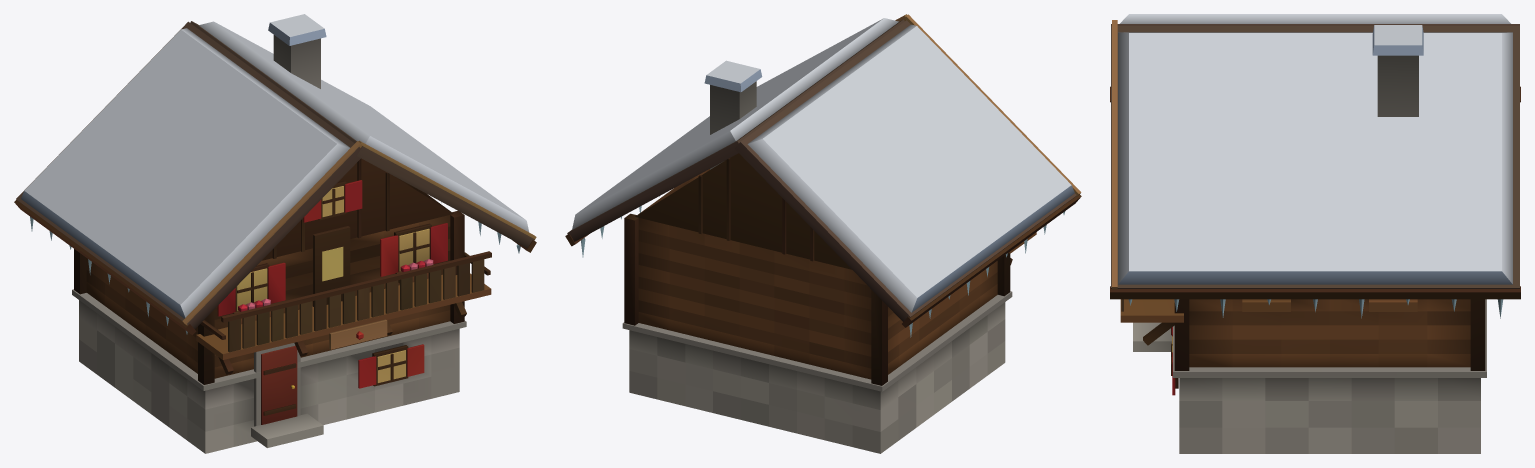
Rendered from Alpine_Chalet.glb.
The picture shows the model from 3 angles, left to right: view 1: azimuth 30°, elevation 25°; view 2: azimuth 150°, elevation 25°; view 3: azimuth 270°, elevation 25°; orthographic projection. The views are drawn at different scales.
Parts seen in each view (by area): view 1: Alpine_Chalet; view 2: Alpine_Chalet; view 3: Alpine_Chalet.
Part boxes in pixels (<box>): Alpine_Chalet: <box>14,14,536,453</box>; Alpine_Chalet: <box>565,14,1081,453</box>; Alpine_Chalet: <box>1110,14,1520,453</box>.
Size of the model in its own units: 9.96 by 8.56 by 8.44.
